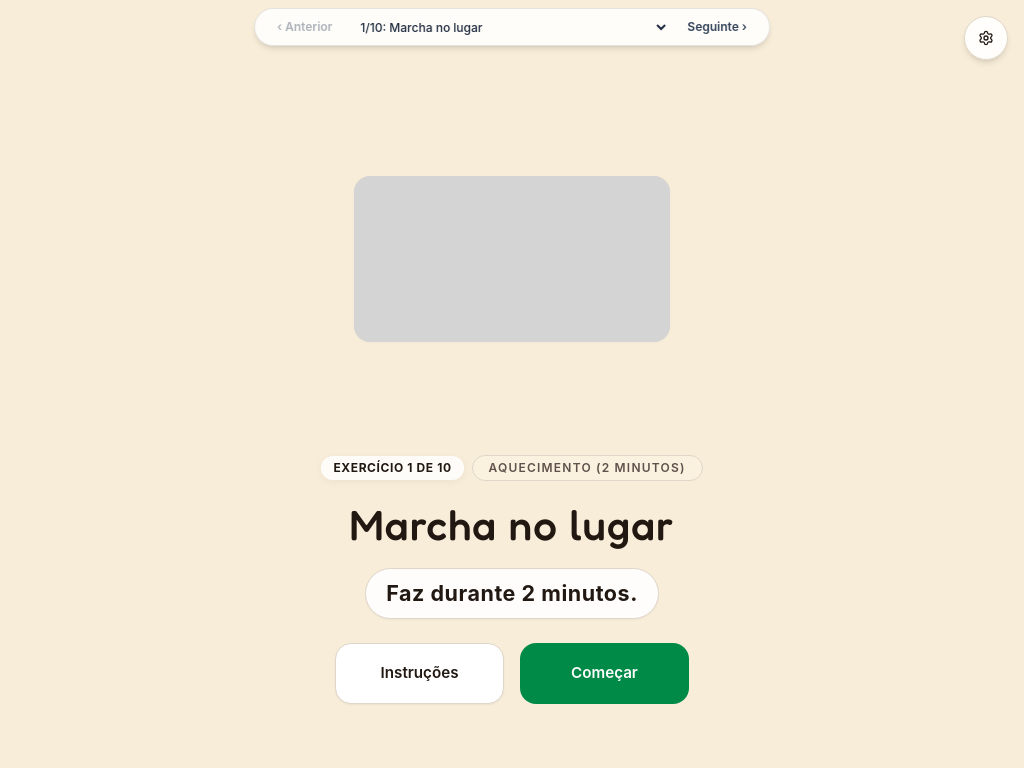
Test: exercise programme › keeps the demonstration on screen while a timed exercise runs
What coordinates should you click on to do the following:
click the button "Começar"
I would click on:
 (604, 673)
Its box is [520, 643, 689, 704].
Wait 3100 ms
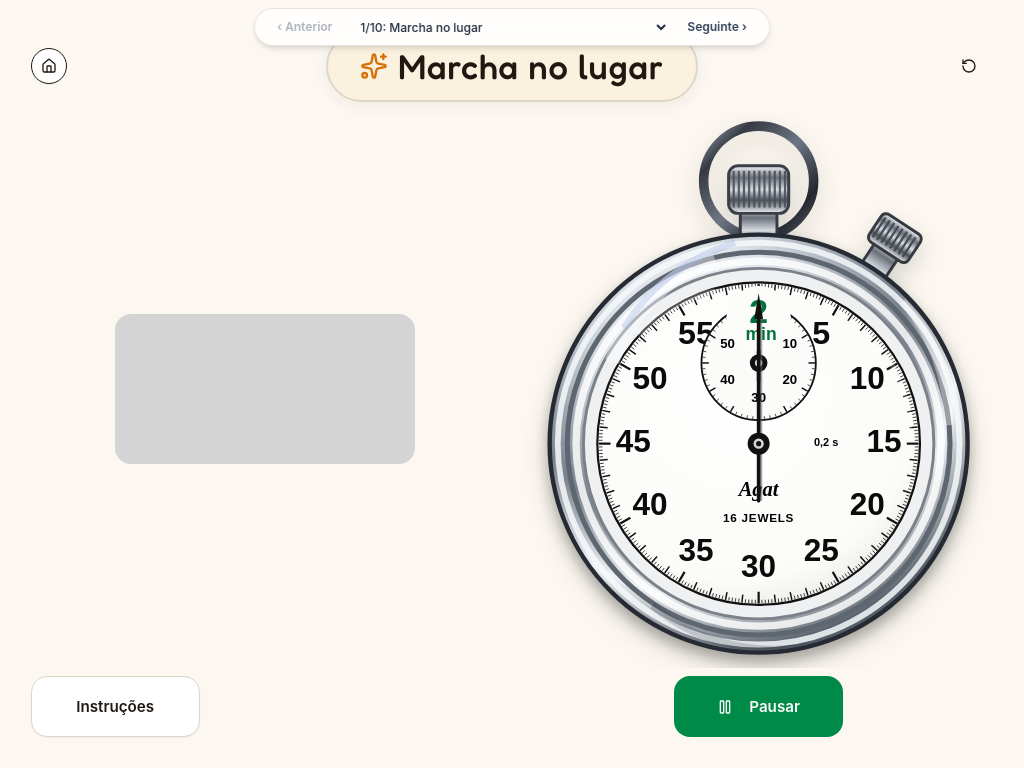
expect the button "Pausar" is shown: met, box [674, 676, 843, 737]
